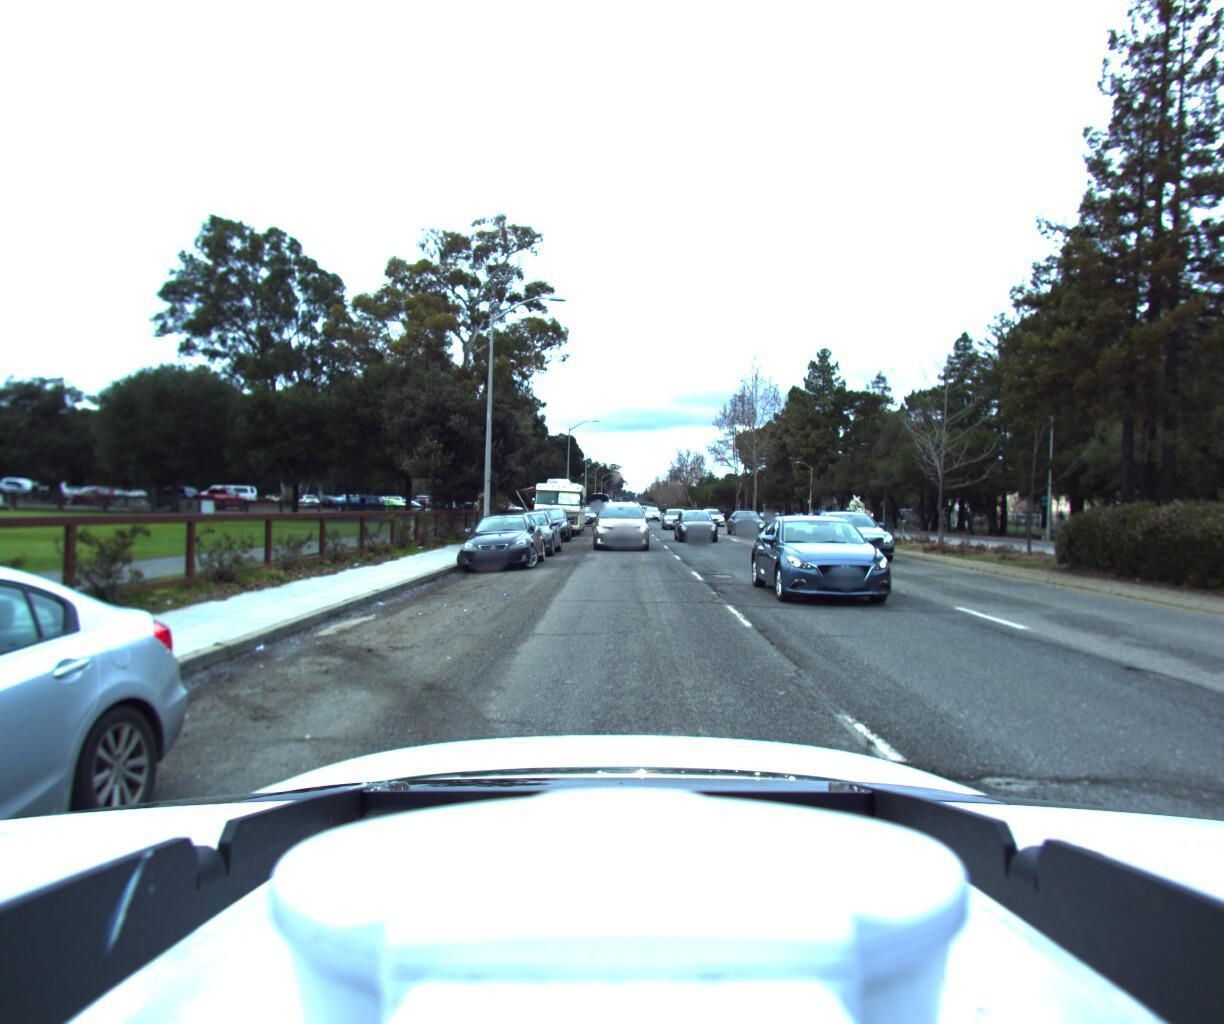car: (0, 524, 204, 1024), (752, 508, 927, 621), (810, 503, 919, 566), (451, 508, 546, 574), (484, 505, 562, 558), (584, 496, 650, 552), (523, 504, 570, 544), (673, 508, 725, 544), (725, 503, 771, 535), (659, 505, 690, 531), (703, 502, 731, 527)
other_vehicle: (525, 471, 588, 538)
